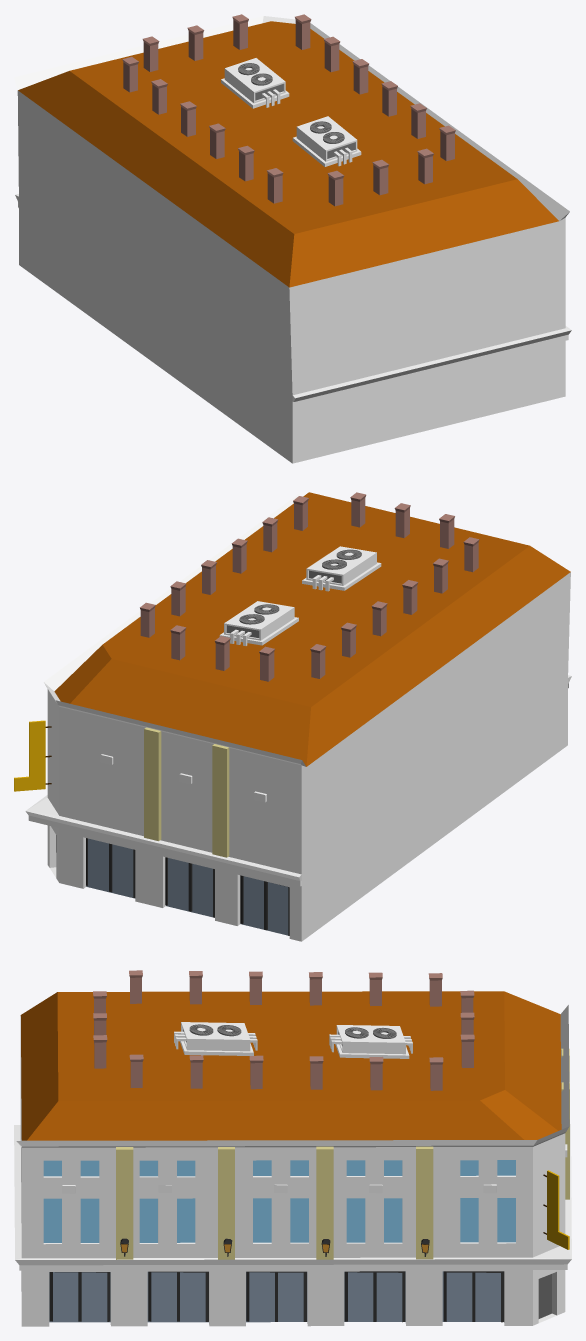
The model's file is Building_082.glb.
3 views of the same model, one above another, from view 1: azimuth 30°, elevation 25°; view 2: azimuth 150°, elevation 25°; view 3: azimuth 270°, elevation 25° (orthographic).
Visible parts, largest first — view 1: Cube.11419, Cube.13372, Cube.13371; view 2: Cube.11419, Cube.13372, Cube.13371; view 3: Cube.11419, Cube.13372, Cube.13371.
Boxes of the visible parts, x1=… form: Cube.11419: x1=14, y1=14, x2=571, y2=463; Cube.13372: x1=292, y1=116, x2=361, y2=166; Cube.13371: x1=221, y1=58, x2=289, y2=108; Cube.11419: x1=14, y1=492, x2=571, y2=941; Cube.13372: x1=302, y1=546, x2=381, y2=591; Cube.13371: x1=219, y1=601, x2=298, y2=645; Cube.11419: x1=14, y1=970, x2=571, y2=1326; Cube.13372: x1=174, y1=1022, x2=257, y2=1055; Cube.13371: x1=329, y1=1025, x2=412, y2=1058.
Size of the model in its own units: 0.3549 by 0.2745 by 0.5787.
